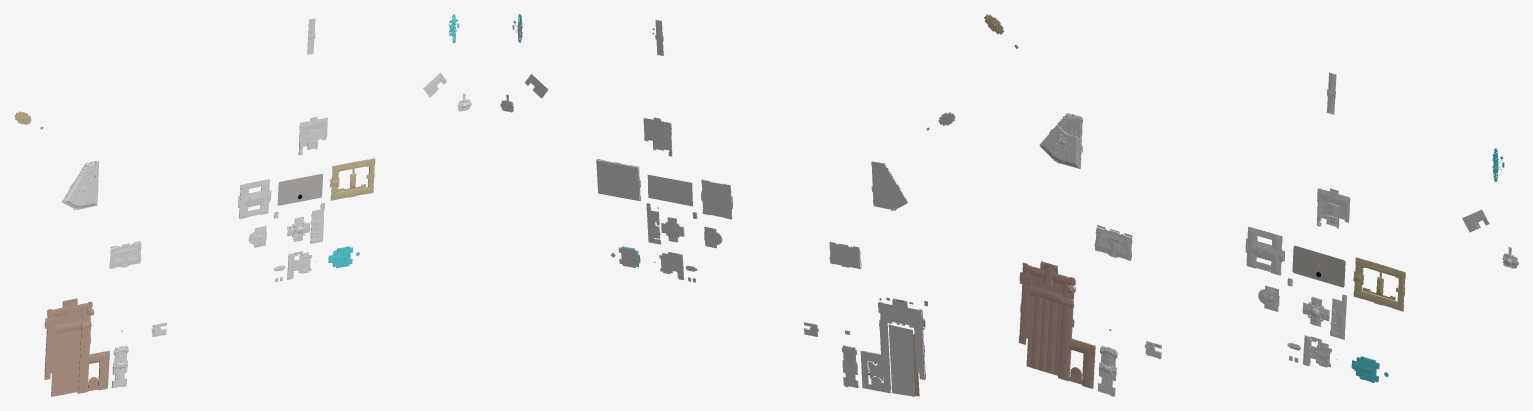
The picture shows the model from 3 angles, left to right: view 1: azimuth 30°, elevation 25°; view 2: azimuth 150°, elevation 25°; view 3: azimuth 330°, elevation 25°; orthographic projection. The views are drawn at different scales.
Bounding box in the file's own units: 7974 × 5377 × 73.22.
